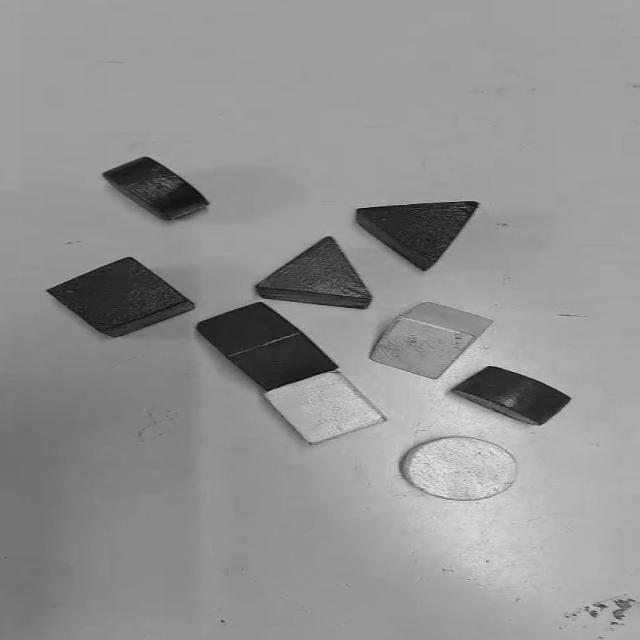bcircle: (100, 157, 212, 222)
bcube: (47, 256, 195, 337)
btriangle: (356, 201, 478, 271)
rcircle: (451, 366, 570, 427)
rcube: (196, 302, 338, 390)
rtriangle: (256, 237, 374, 309)
ycircle: (399, 435, 520, 501)
ycube: (264, 372, 386, 444)
ytriangle: (372, 302, 492, 378)
